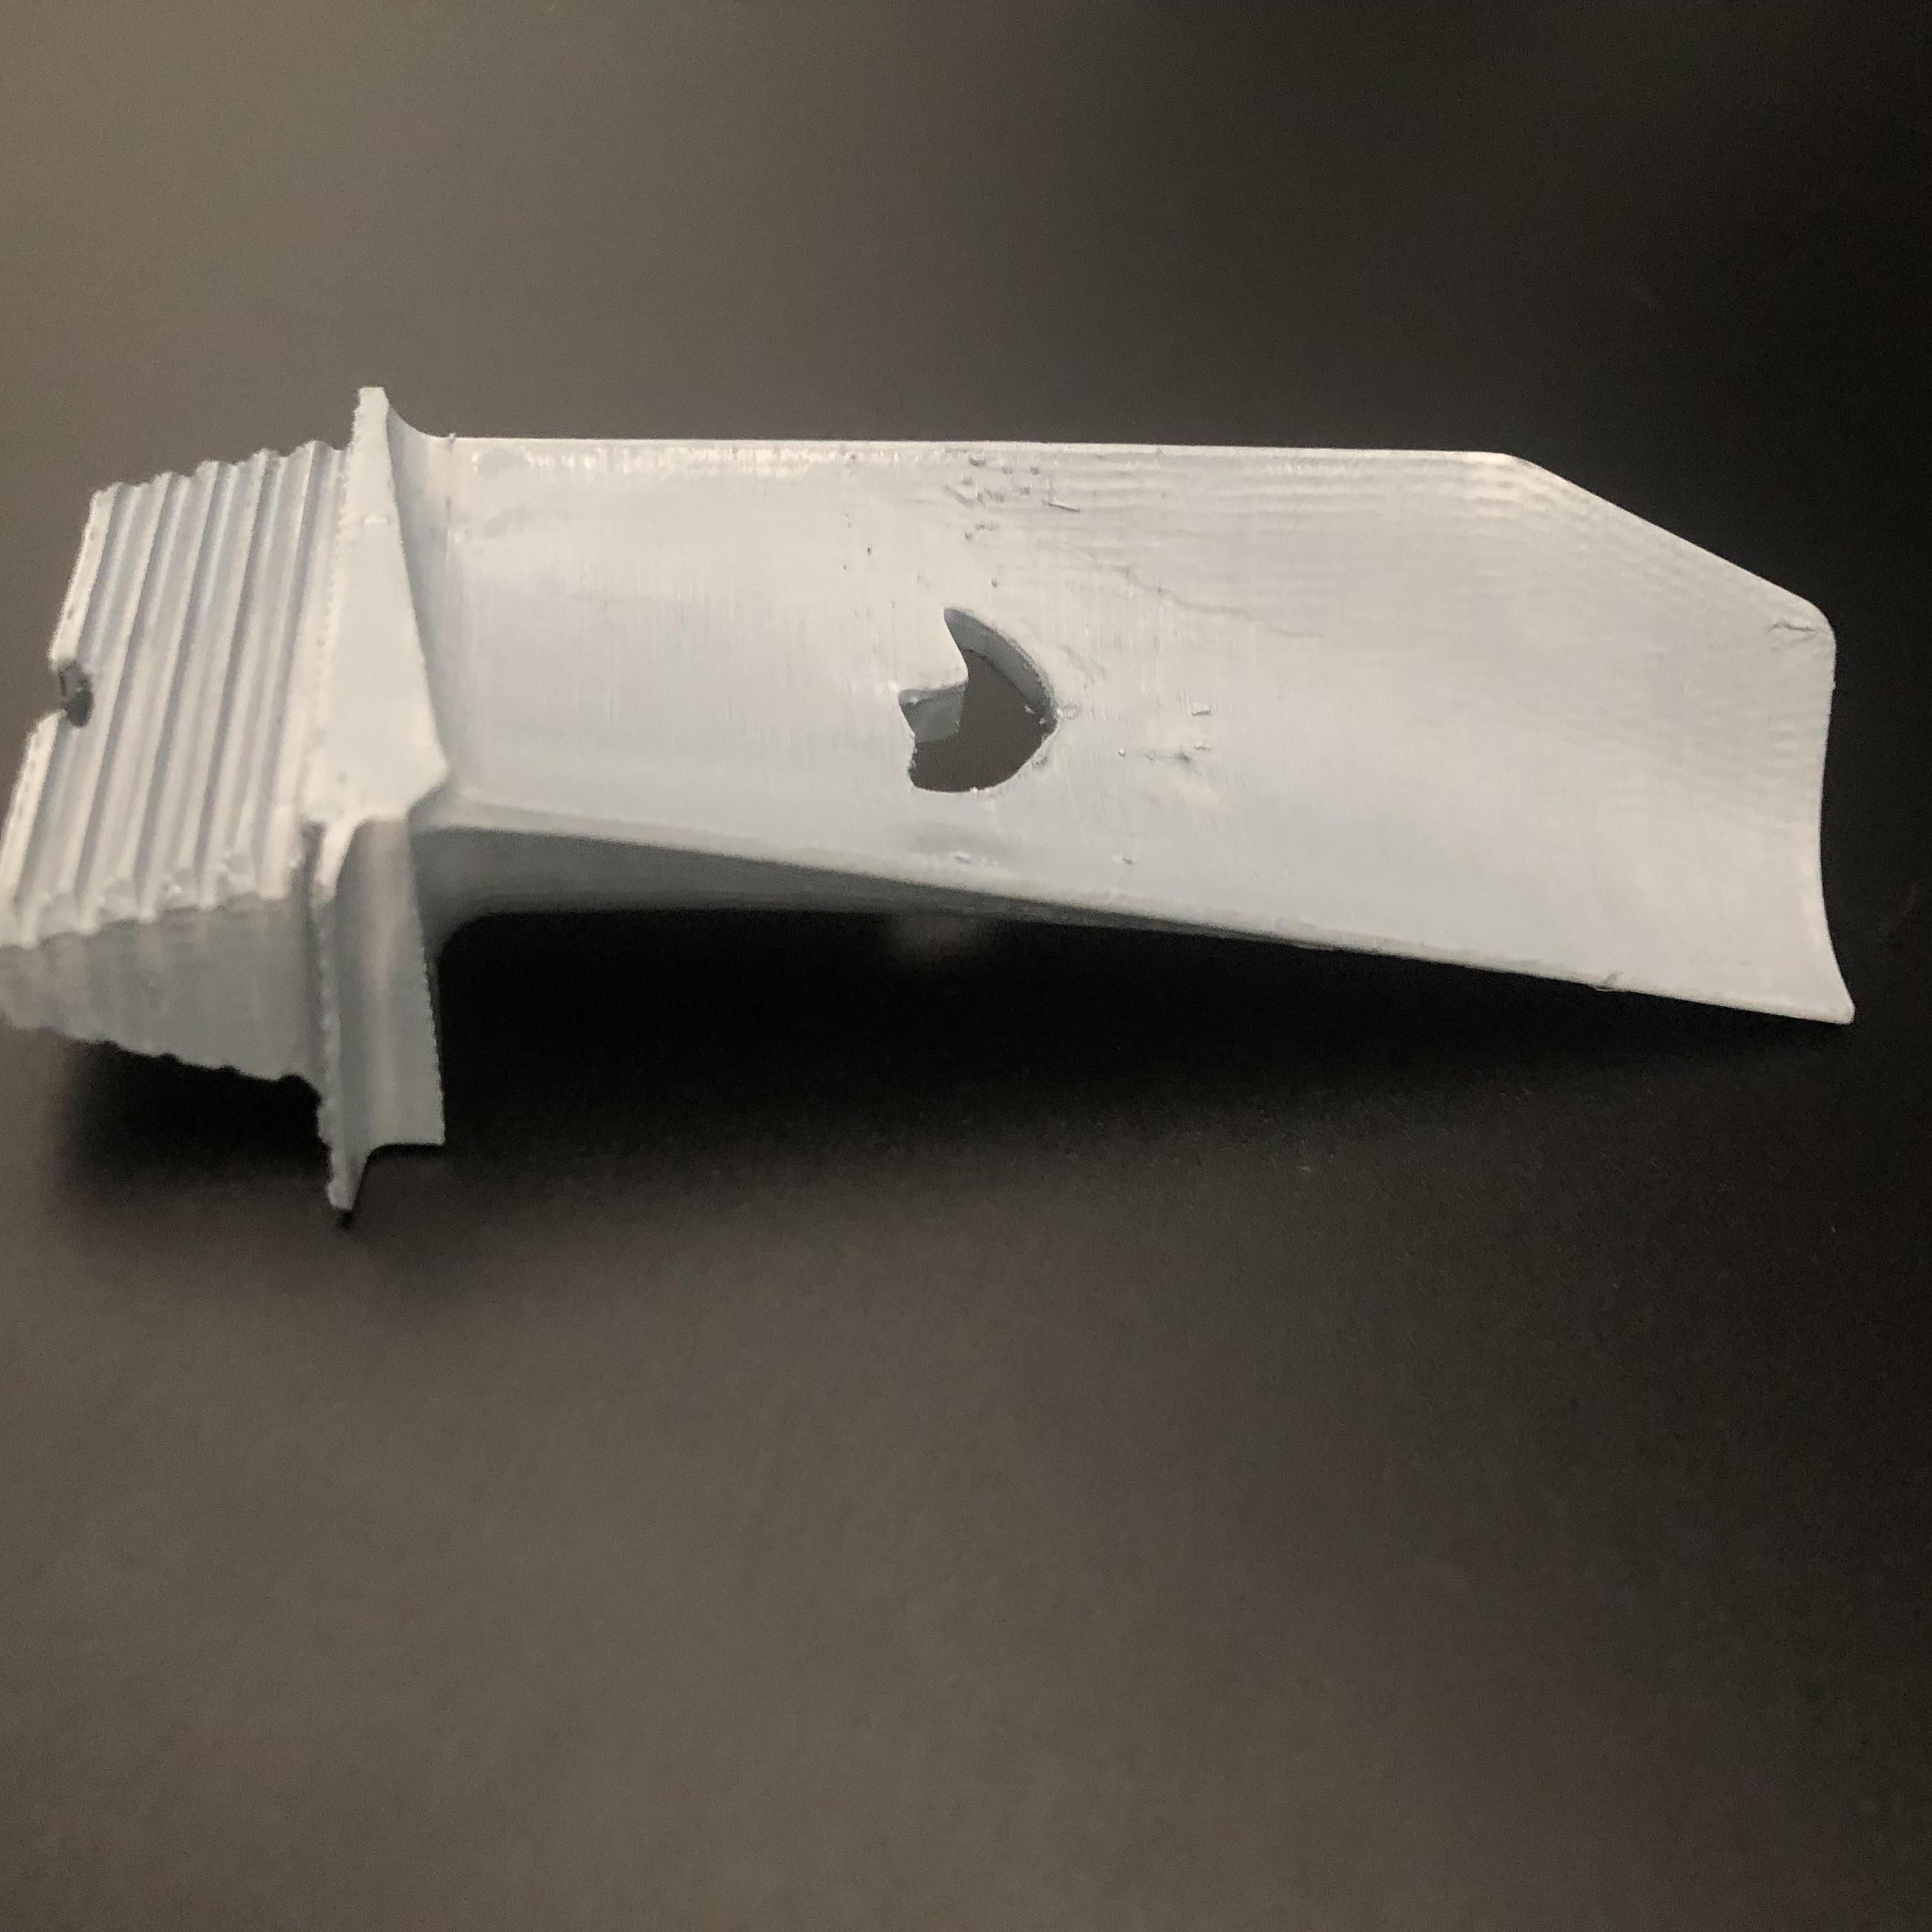breakdown: (895, 603, 1077, 805)
